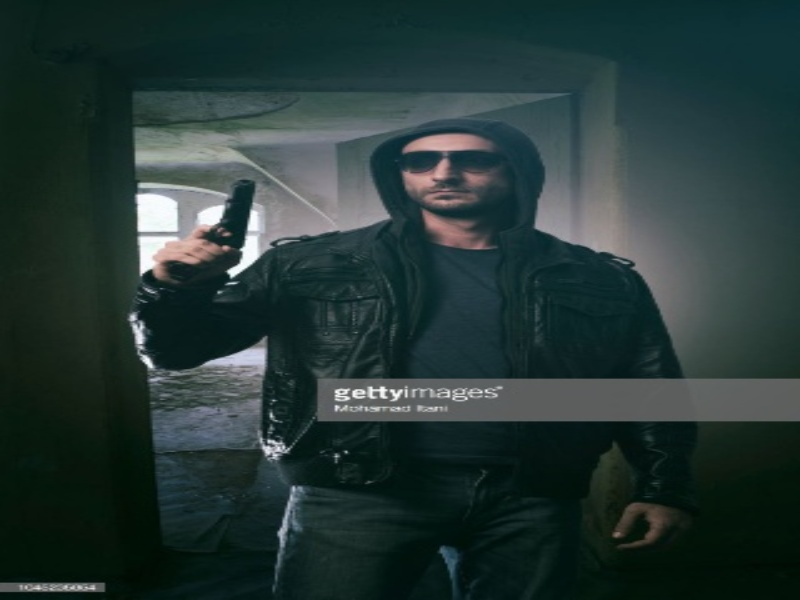person: (130, 120, 696, 600)
weapon: (166, 180, 255, 281)
